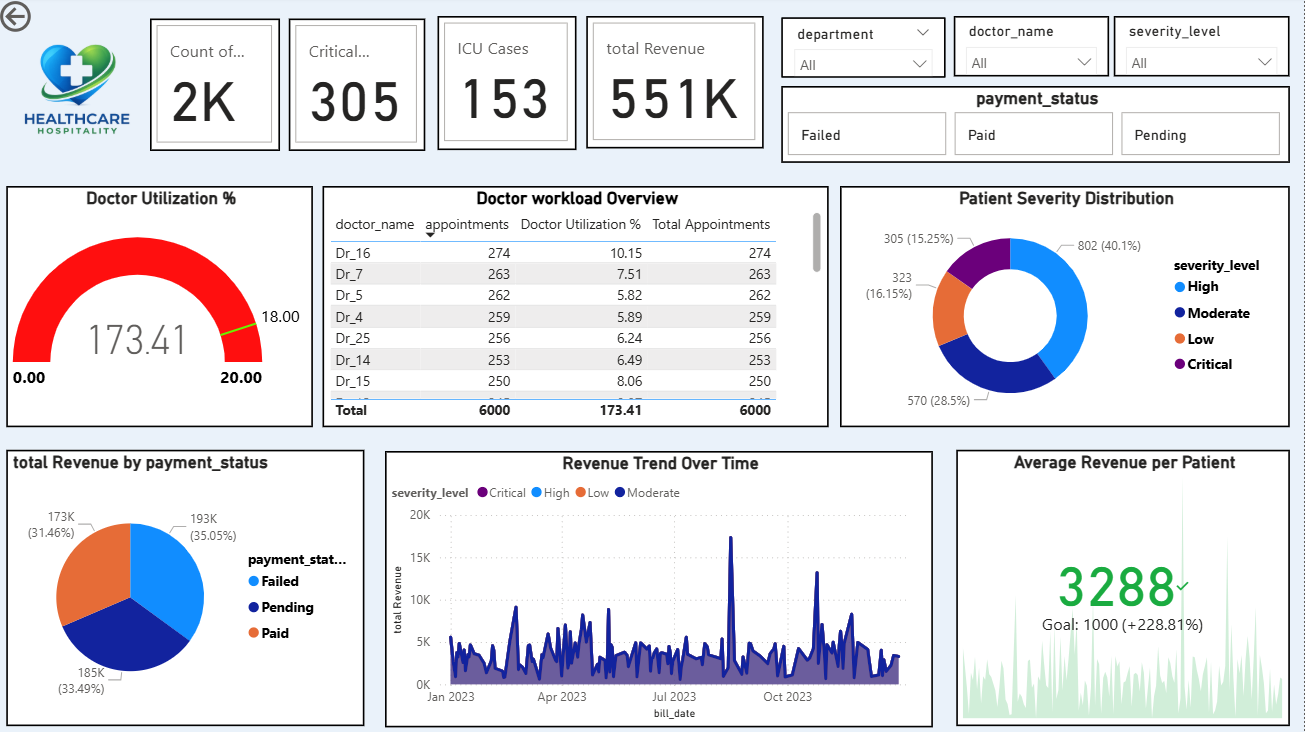

Layout of this report page (visuals, bound fields, positions):
{"tool":"powerbi","page":{"name":"Page 1","canvas":[1280,720],"ordinal":0},"visuals":[{"type":"cardVisual","fields":{"Data":["appointment.Critical Patients"]},"box":[287.4,22,133.3,129.6],"z":0},{"type":"cardVisual","fields":{"Data":["appointment.ICU Cases"]},"box":[432.9,19.6,135.7,130.8],"z":1000},{"type":"cardVisual","fields":{"Data":["appointment.total Revenue"]},"box":[578.4,19.6,173.6,129.6],"z":2000},{"type":"gauge","fields":{"Y":["appointment.Doctor Utilization %"]},"box":[10.7,185.3,300,236],"z":3000},{"type":"tableEx","title":"Doctor workload Overview","fields":{"Values":["doctor.doctor_name","appointment.appointments","appointment.Doctor Utilization %","appointment.Total Appointments"]},"box":[330.2,185.9,495.2,236],"z":4000},{"type":"donutChart","title":"Patient Severity Distribution","fields":{"Y":["CountNonNull(patient.patient_id)"],"Category":["patient.severity_level"]},"box":[848.6,185.9,418.2,236],"z":5000},{"type":"kpi","title":"Average Revenue per Patient","fields":{"Goal":["appointment.Revenue Target per Patient"],"TrendLine":["billing.bill_date"],"Indicator":["appointment.total Revenue"]},"box":[940.4,443.9,326.5,270.2],"z":6000},{"type":"areaChart","title":"Revenue Trend Over Time","fields":{"Series":["patient.severity_level"],"Y":["appointment.total Revenue"],"Category":["billing.bill_date"]},"box":[381.3,445.3,536,270.7],"z":7000},{"type":"actionButton","box":[0,0,100,40],"z":8000},{"type":"pieChart","fields":{"Category":["billing.payment_status"],"Y":["appointment.total Revenue"]},"box":[10.7,444,350.7,270.7],"z":9000},{"type":"cardVisual","fields":{"Data":["CountNonNull(patient.patient_id)"]},"box":[151.6,22,127.2,129.6],"z":10000},{"type":"slicer","fields":{"Values":["doctor.department"]},"box":[768.7,21.3,160.5,58.9],"z":11000},{"type":"advancedSlicerVisual","fields":{"Values":["billing.payment_status"]},"box":[768.7,87.8,497.8,75.2],"z":12000},{"type":"slicer","fields":{"Values":["patient.severity_level"]},"box":[1094.7,20.1,171.8,58.9],"z":13000},{"type":"slicer","fields":{"Values":["doctor.doctor_name"]},"box":[937.9,20.1,151.7,58.9],"z":14000},{"type":"image","box":[0,0,161.4,185.9],"z":15000}]}

Visuals, with their boxes in screenshot pixels (x1, y1, x2, y2), scaled from the page's 1280x720 canvas onto the 1305x732 screenshot:
cardVisual - appointment.Critical Patients: <box>293,22,429,154</box>
cardVisual - appointment.ICU Cases: <box>441,20,580,153</box>
cardVisual - appointment.total Revenue: <box>590,20,767,152</box>
gauge - appointment.Doctor Utilization %: <box>11,188,317,428</box>
"Doctor workload Overview" tableEx: <box>337,189,842,429</box>
"Patient Severity Distribution" donutChart: <box>865,189,1292,429</box>
"Average Revenue per Patient" kpi: <box>959,451,1292,726</box>
"Revenue Trend Over Time" areaChart: <box>389,453,935,728</box>
actionButton: <box>0,0,102,41</box>
pieChart - billing.payment_status x appointment.total Revenue: <box>11,451,368,727</box>
cardVisual - CountNonNull(patient.patient_id): <box>155,22,284,154</box>
slicer - doctor.department: <box>784,22,947,82</box>
advancedSlicerVisual - billing.payment_status: <box>784,89,1291,166</box>
slicer - patient.severity_level: <box>1116,20,1291,80</box>
slicer - doctor.doctor_name: <box>956,20,1111,80</box>
image: <box>0,0,165,189</box>
